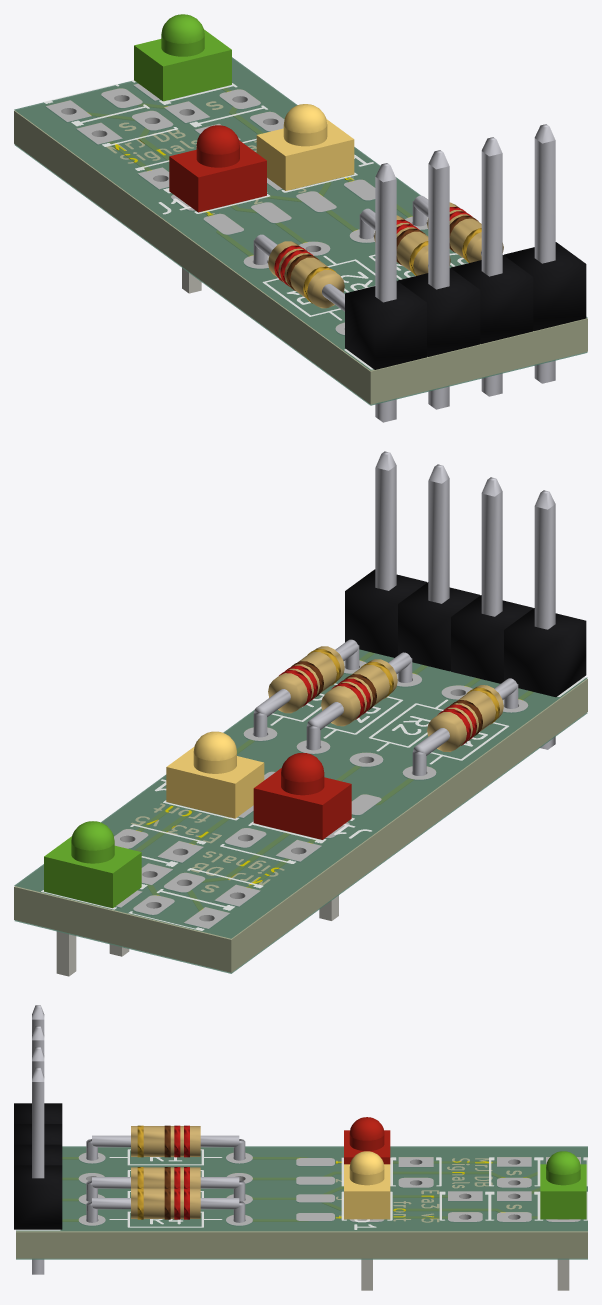
Rendered from MrJ-DB-Era3-breadboard-entry-test-w4.glb.
3 views of the same model, one above another, from view 1: azimuth 30°, elevation 25°; view 2: azimuth 150°, elevation 25°; view 3: azimuth 270°, elevation 25° (orthographic). The views are drawn at different scales.
Parts seen in each view (by area): view 1: =>[0:1:1:17], =>[0:1:1:3] (×4), =>[0:1:1:15], =>[0:1:1:5] (×3), =>[0:1:1:13], =>[0:1:1:9], =>[0:1:1:11], =>[0:1:1:7], =>[0:1:1:14], =>[0:1:1:12], =>[0:1:1:16]; view 2: =>[0:1:1:17], =>[0:1:1:15], =>[0:1:1:3] (×4), =>[0:1:1:5] (×3), =>[0:1:1:13], =>[0:1:1:11], =>[0:1:1:9], =>[0:1:1:7], =>[0:1:1:14], =>[0:1:1:12], =>[0:1:1:16]; view 3: =>[0:1:1:17], =>[0:1:1:15], =>[0:1:1:5] (×3), =>[0:1:1:3] (×4), =>[0:1:1:13], =>[0:1:1:11], =>[0:1:1:7], =>[0:1:1:14], =>[0:1:1:9], =>[0:1:1:12], =>[0:1:1:16].
Boxes of the visible parts, x1,y1,x2,y2 form: =>[0:1:1:17]: (14, 59, 587, 404); =>[0:1:1:3] (×4): (345, 124, 586, 422); =>[0:1:1:15]: (14, 57, 587, 370); =>[0:1:1:5] (×3): (253, 195, 503, 311); =>[0:1:1:13]: (46, 83, 427, 335); =>[0:1:1:9]: (169, 125, 266, 293); =>[0:1:1:11]: (134, 14, 231, 101); =>[0:1:1:7]: (256, 104, 354, 190); =>[0:1:1:14]: (44, 80, 586, 369); =>[0:1:1:12]: (87, 88, 412, 256); =>[0:1:1:16]: (14, 144, 587, 405); =>[0:1:1:17]: (14, 650, 587, 972); =>[0:1:1:15]: (14, 649, 587, 938); =>[0:1:1:3] (×4): (345, 451, 586, 749); =>[0:1:1:5] (×3): (253, 639, 518, 775); =>[0:1:1:13]: (114, 660, 527, 929); =>[0:1:1:11]: (44, 821, 141, 976); =>[0:1:1:9]: (253, 752, 351, 920); =>[0:1:1:7]: (166, 731, 264, 818); =>[0:1:1:14]: (41, 676, 586, 930); =>[0:1:1:12]: (136, 652, 532, 910); =>[0:1:1:16]: (14, 713, 587, 973); =>[0:1:1:17]: (16, 1148, 587, 1258); =>[0:1:1:15]: (16, 1146, 587, 1231); =>[0:1:1:5] (×3): (86, 1125, 245, 1222); =>[0:1:1:3] (×4): (14, 1005, 62, 1274); =>[0:1:1:13]: (78, 1153, 580, 1225); =>[0:1:1:11]: (540, 1151, 586, 1290); =>[0:1:1:7]: (344, 1151, 390, 1290); =>[0:1:1:14]: (16, 1149, 587, 1230); =>[0:1:1:9]: (344, 1117, 390, 1164); =>[0:1:1:12]: (63, 1157, 539, 1221); =>[0:1:1:16]: (16, 1258, 587, 1259).
Bounding box in the file's own units: 0.0104 × 0.0127 × 0.0297.
